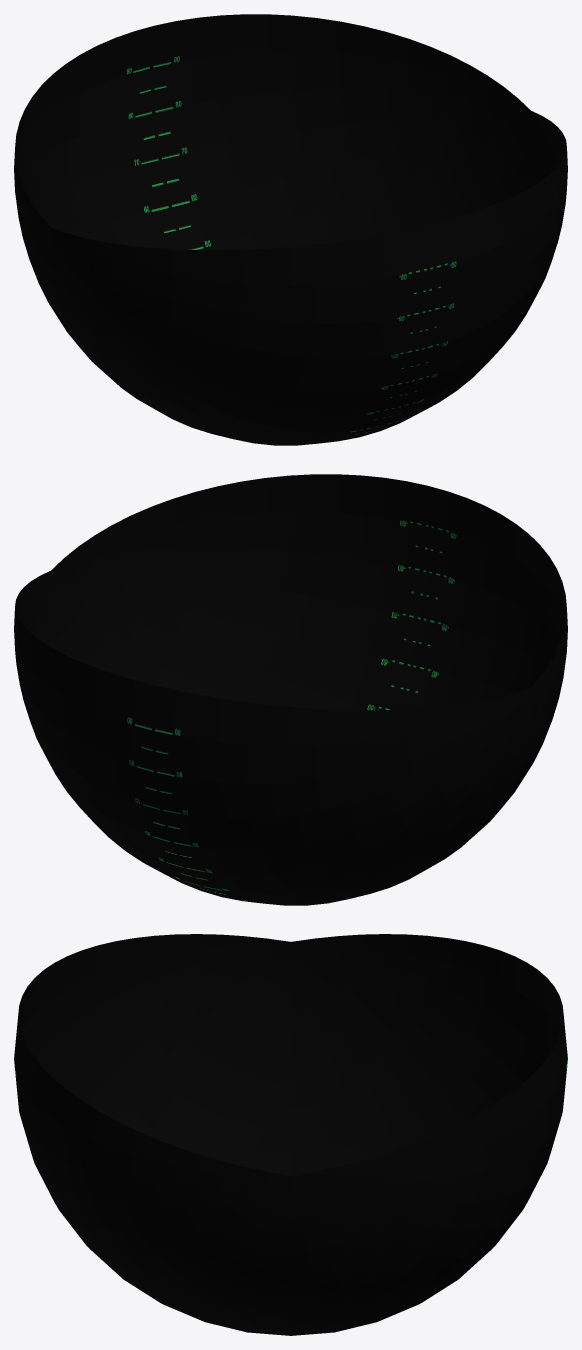
File: AltitudeIndicatorHemisphere_v2.fbx
The picture shows the model from 3 angles, top to bottom: view 1: azimuth 30°, elevation 25°; view 2: azimuth 150°, elevation 25°; view 3: azimuth 270°, elevation 25°; orthographic projection.
Visible parts, largest first — view 1: Sphere; view 2: Sphere; view 3: Sphere.
Boxes of the visible parts, box(x1,y1,x2,y2) form: Sphere: box(14, 14, 567, 445); Sphere: box(14, 474, 567, 905); Sphere: box(14, 934, 567, 1335).
Size of the model in its own units: 200 by 117 by 200.
Materials: 1 (1 with a texture image).
